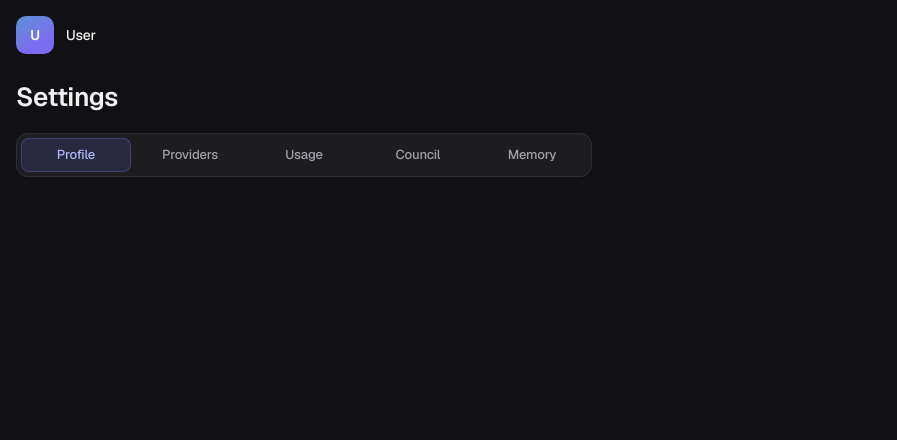
Test: SettingsPage — Council tab › shows the "Council members" button in the Consejo tab when ≥2 providers are connected
The image size is (897, 440).
Click the tab "Council": (418, 155) [363,138,473,172]
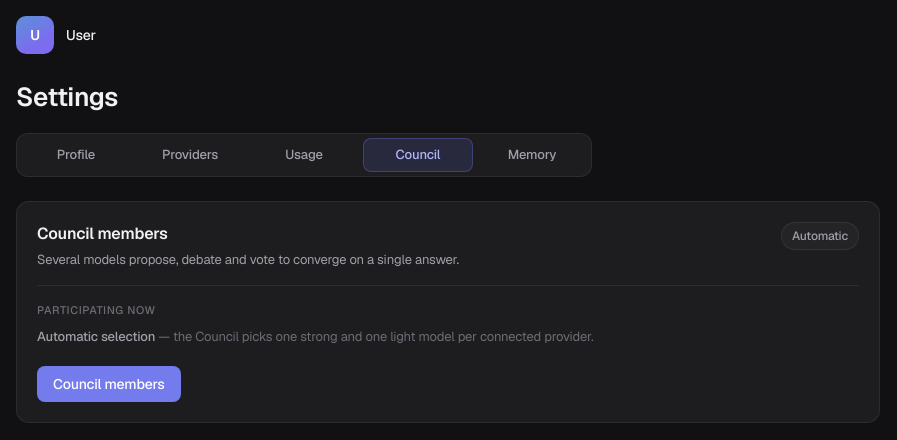
expect the button "Council members" is shown: met, box [37,366,181,402]
